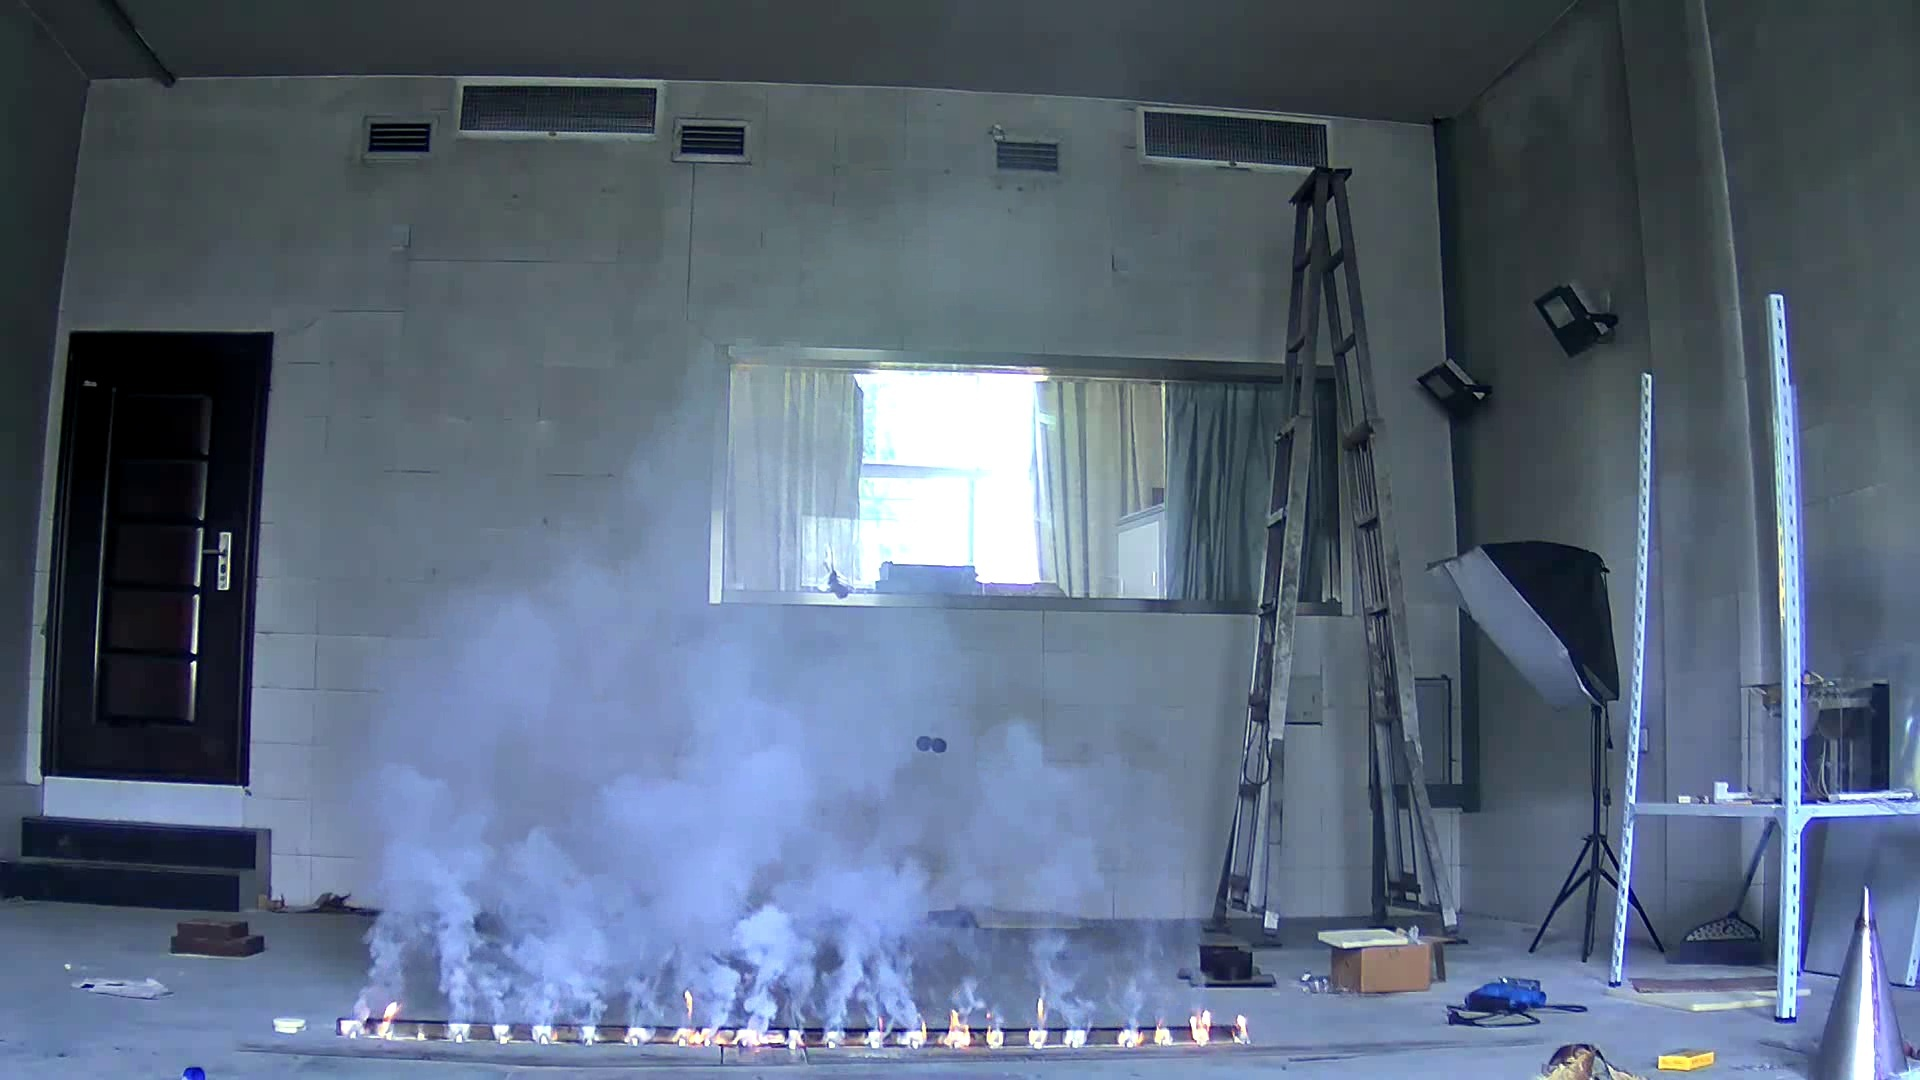smoke: (625, 613, 934, 1080), (331, 574, 621, 1034), (948, 691, 1189, 1062)
